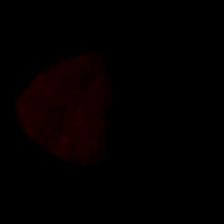fertile: (12, 49, 174, 169)
